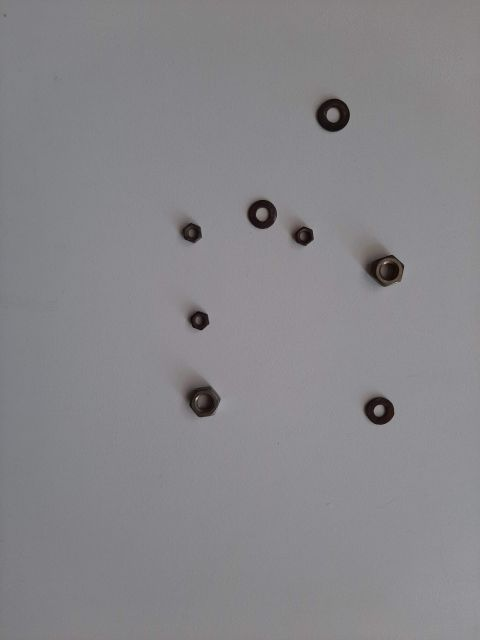nakretka: (355, 235, 415, 295), (175, 355, 215, 415), (275, 215, 305, 275), (155, 295, 215, 325), (175, 215, 215, 245)
podkladka: (295, 75, 365, 135), (215, 185, 275, 235), (355, 385, 415, 425)
